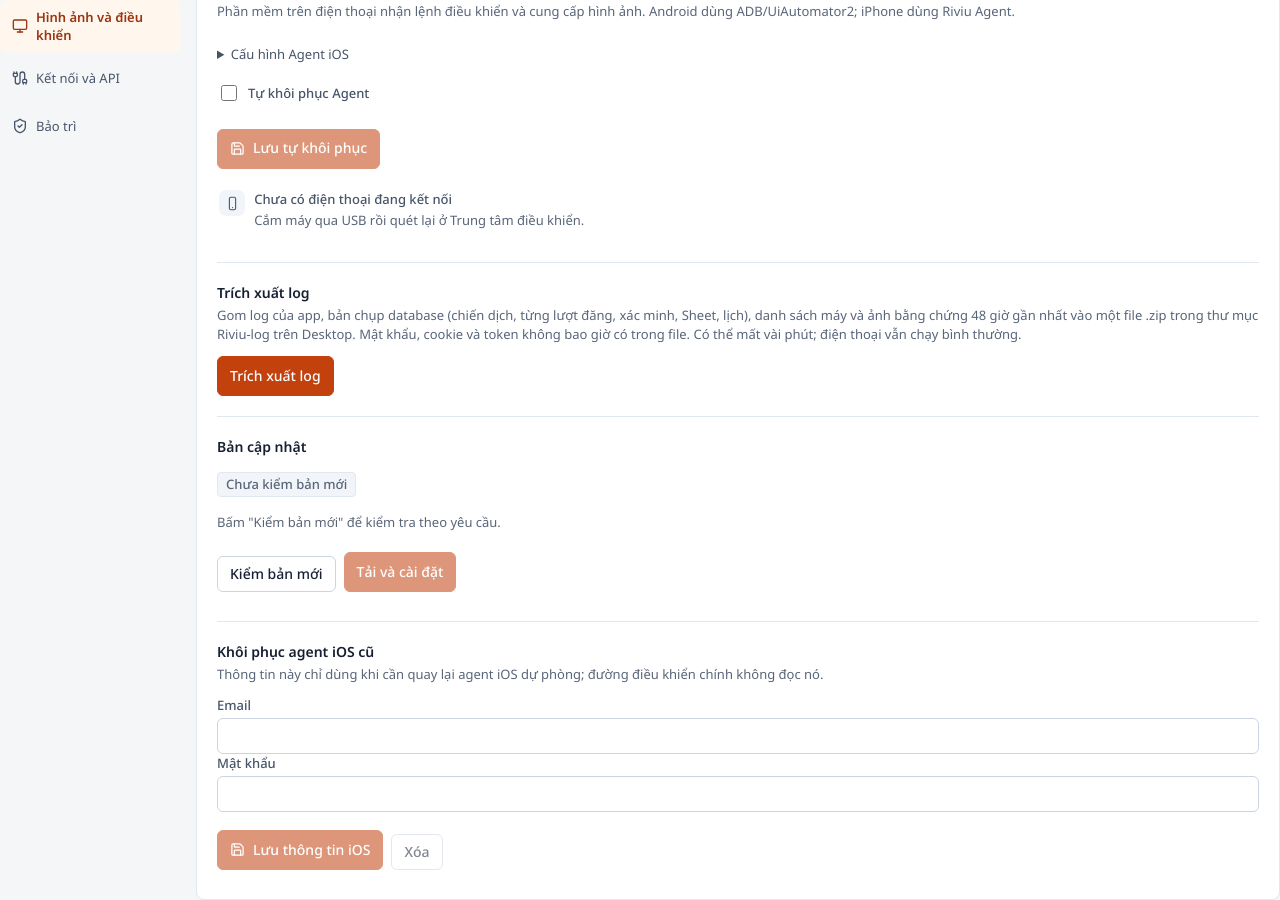
Scenario: SettingsPanel update section › shows a failed check instead of leaving the panel looking current
(page scrolled)
What coordinates should you click on to do the following:
click the button "Kiểm bản mới"
I would click on:
 (276, 574)
Its box is [217,556,336,592].
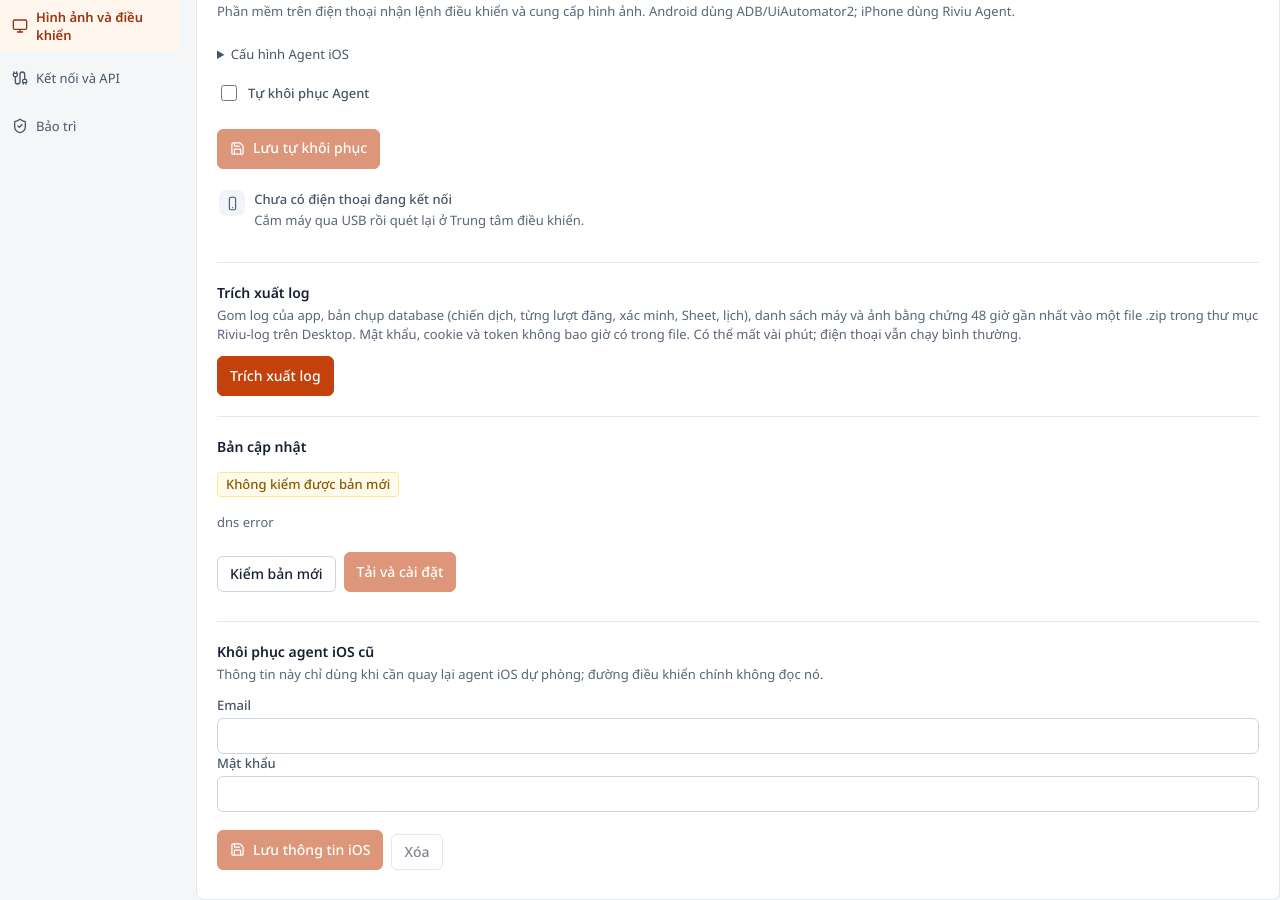
Expected: the button "Tải và cài đặt" is disabled, [344,552,456,592]
Now the text "Không kiểm được bản mới" is shown, box [217,472,399,497]
